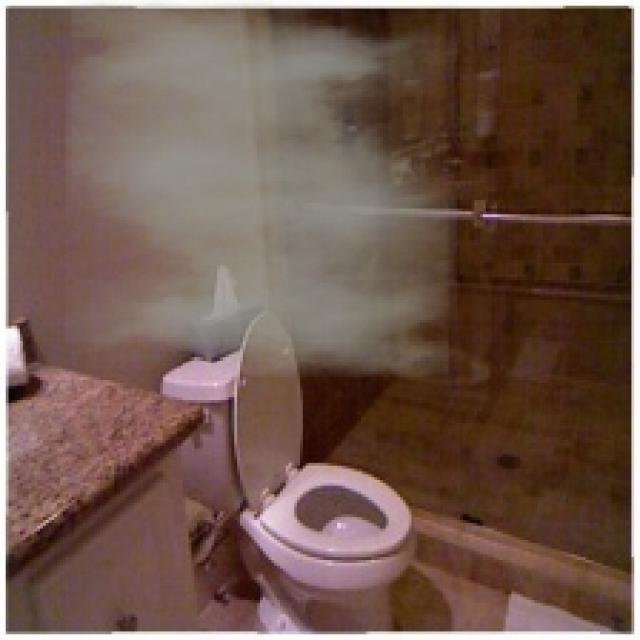smoke: (66, 0, 457, 377)
